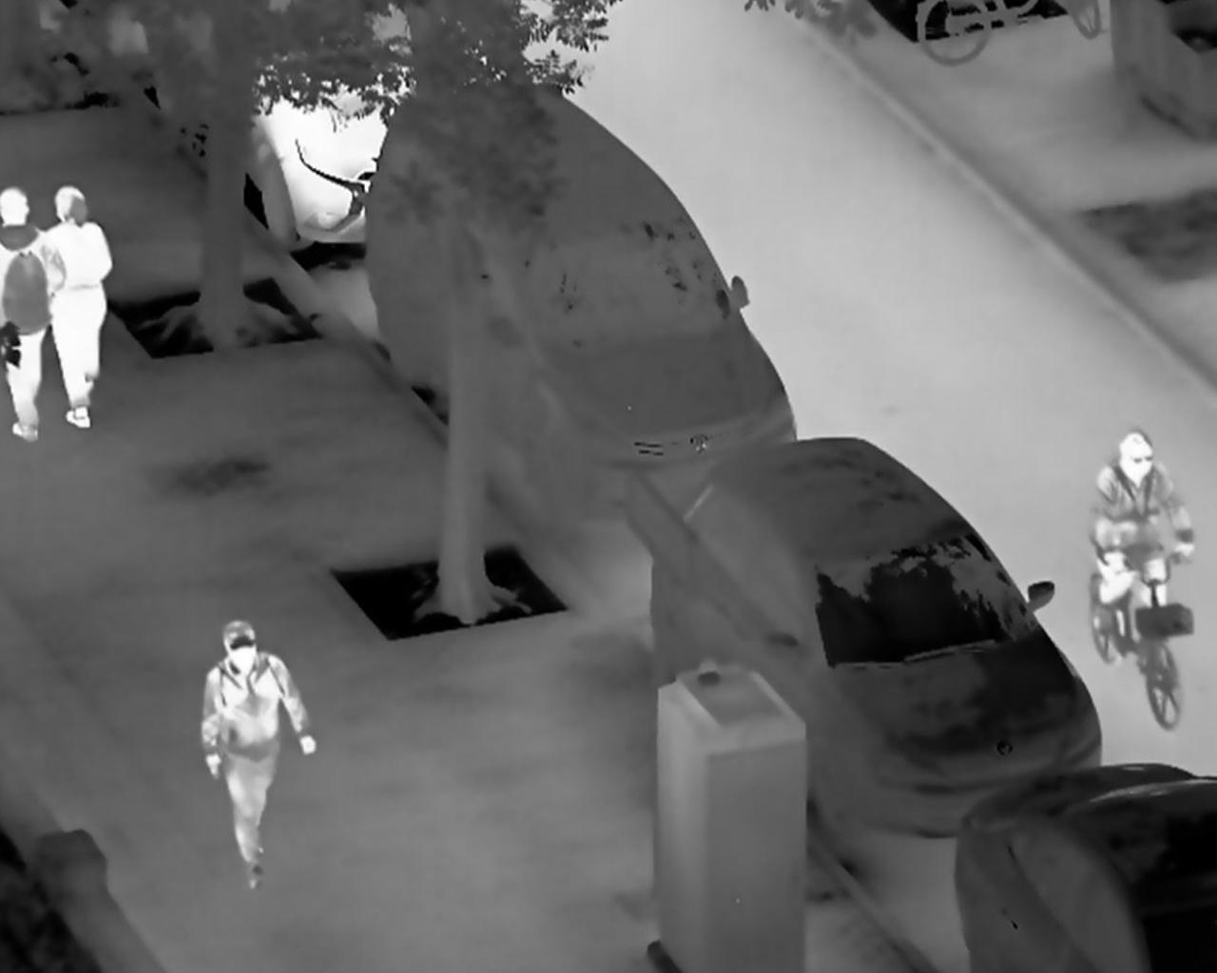person: (194, 618, 318, 898), (1088, 427, 1199, 667), (35, 179, 113, 433)
